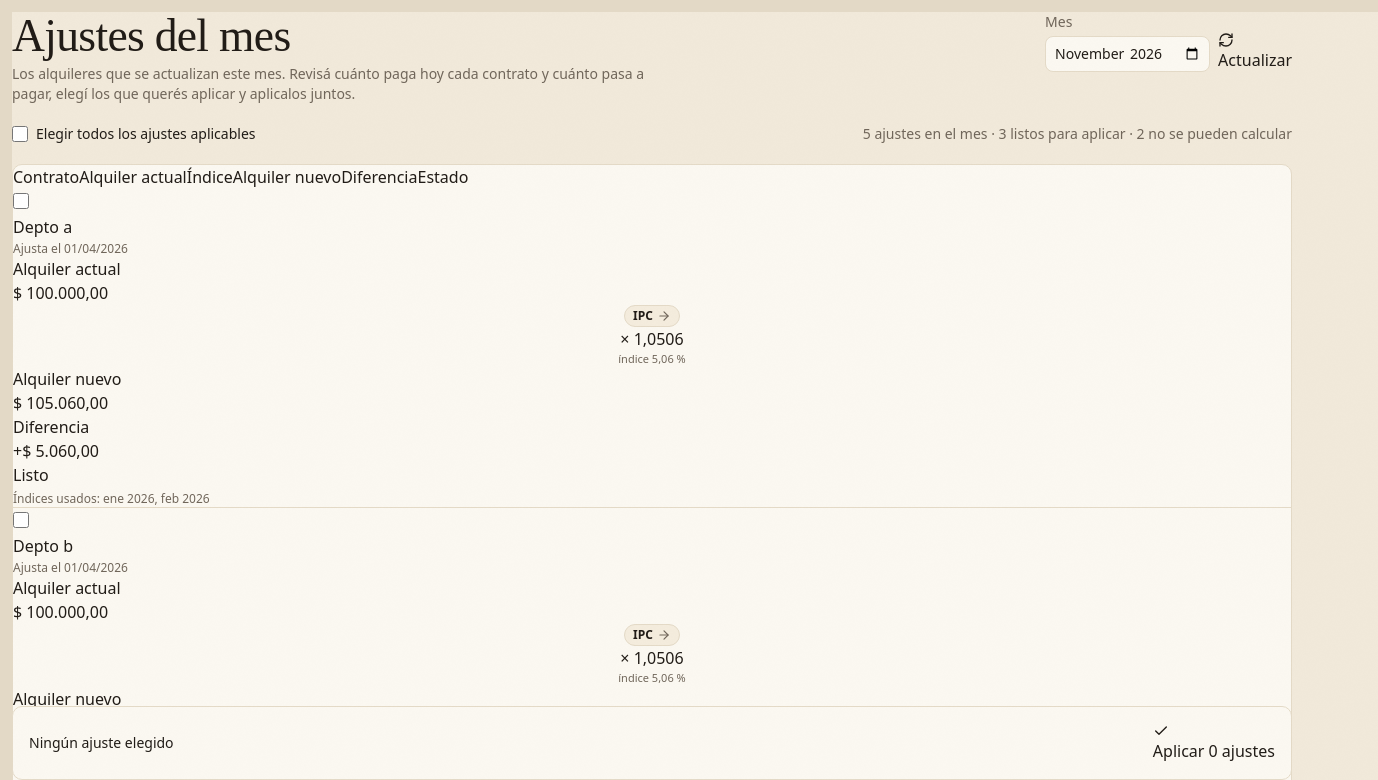
it: Ajustes del mes › elegir todos toma solo los aplicables y el botón cuenta lo elegido
The image size is (1378, 780).
Check: the button "Aplicar 0 ajustes" is disabled, box [1153,723,1275,763]
Click the checkbox labelled "Elegir todos los ajustes aplicables".
click(20, 134)  # box [12,126,28,142]
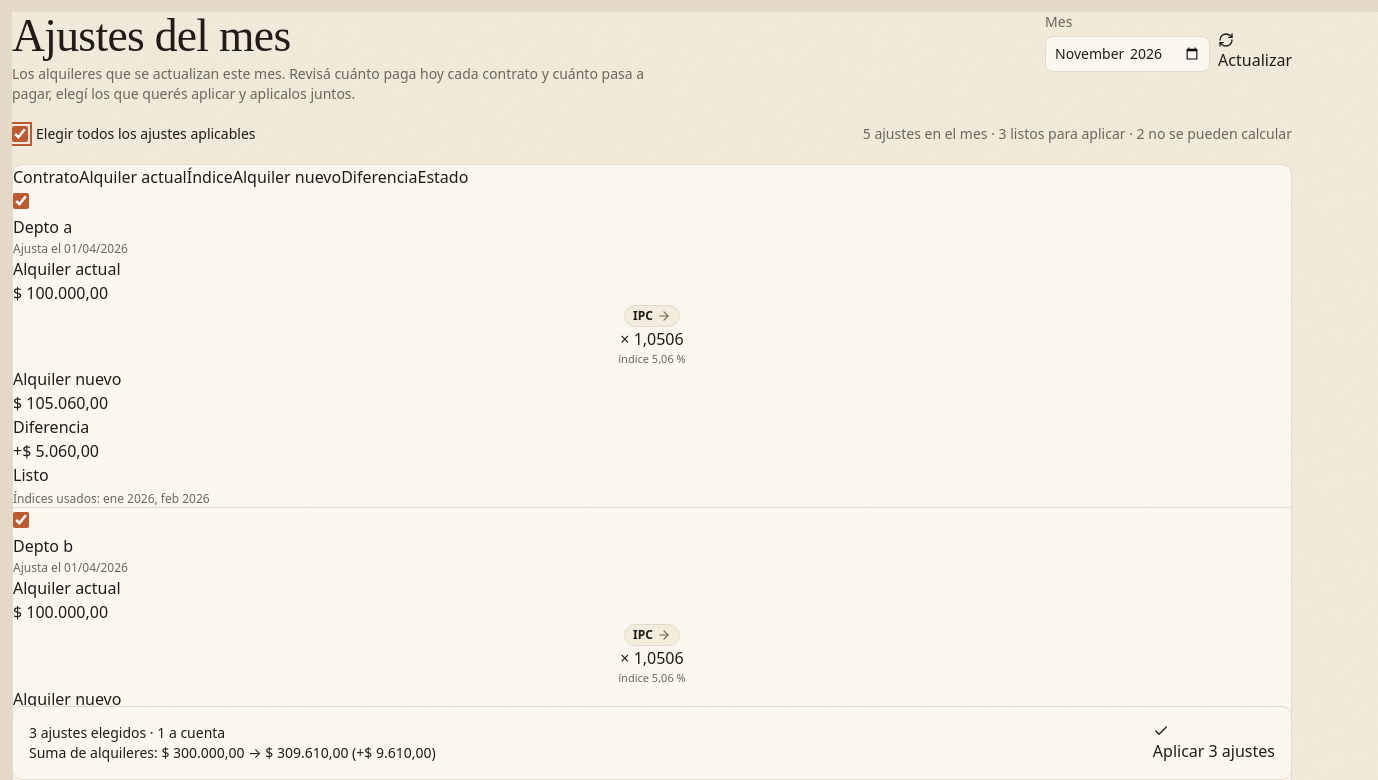
Check: the button "Aplicar 3 ajustes" is enabled, box [1153,723,1275,763]
Check: the text "3 ajustes elegidos · 1 a cuenta" is shown, box [29,723,225,742]
Click the checkbox labelled "Elegir todos los ajustes aplicables".
click(20, 134)  # box [12,126,28,142]
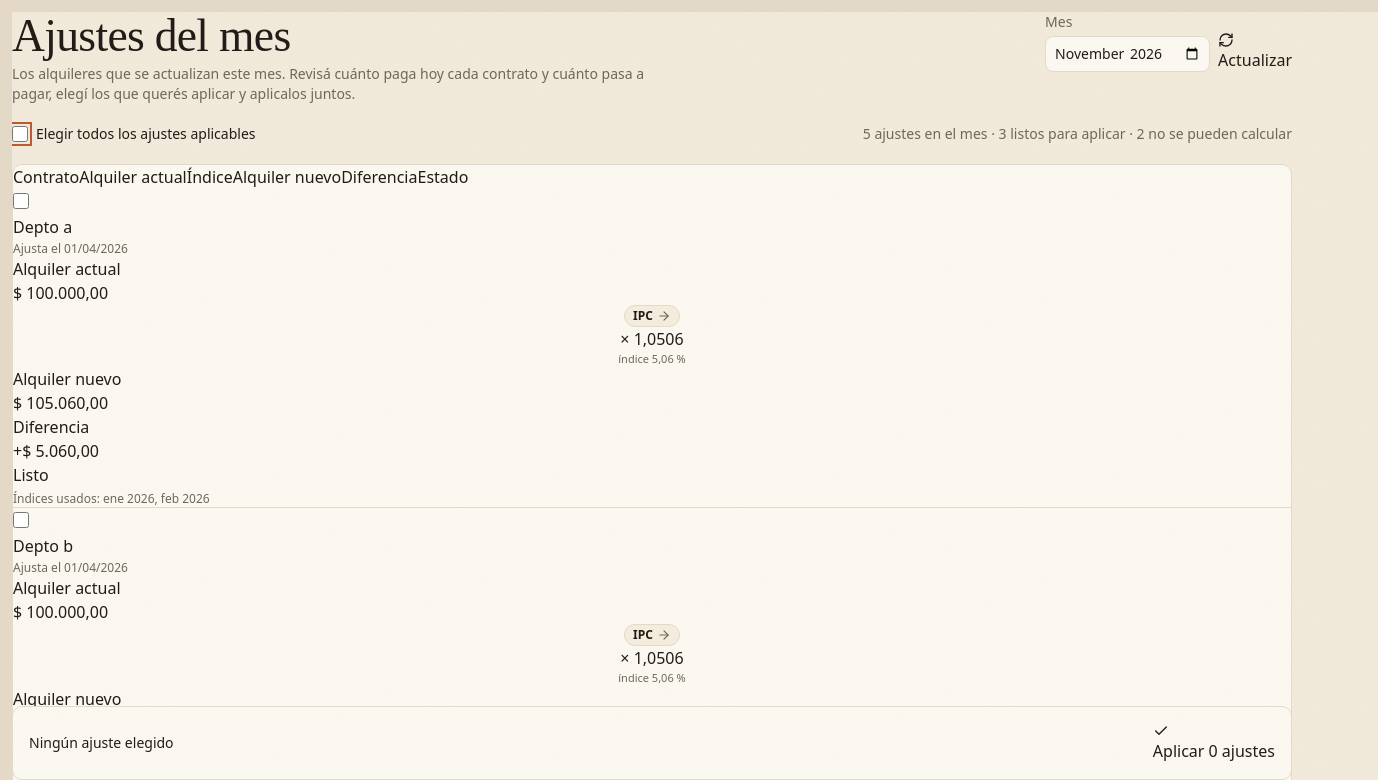
Check: the button "Aplicar 0 ajustes" is disabled, box [1153,723,1275,763]
